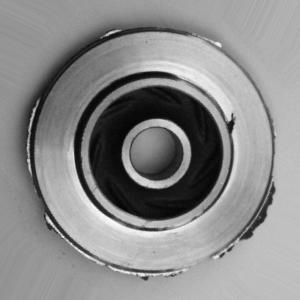casting_with_burr: (25, 25, 279, 285)
crack: (221, 103, 248, 140)
scratch: (150, 212, 200, 240)
